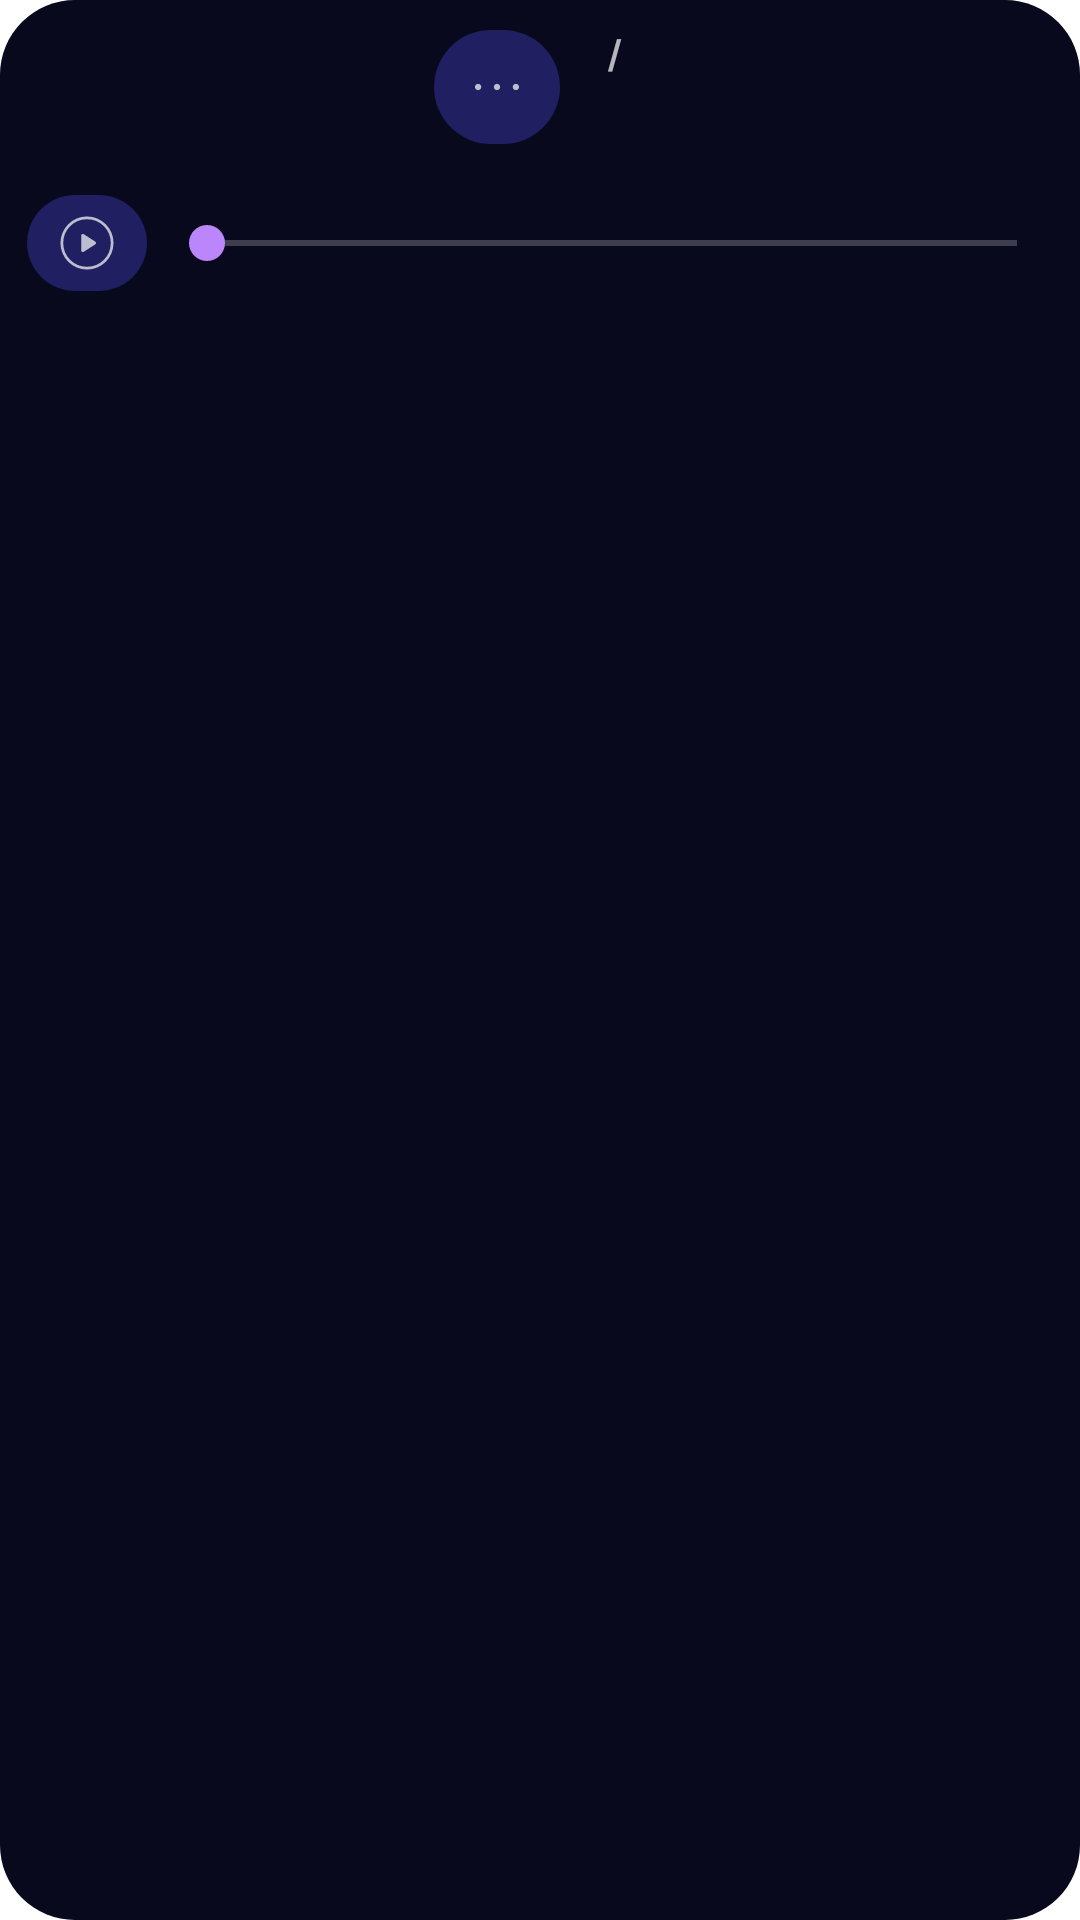

Point at icon controls on the screen. Image size 1080px x 1920px, points as [x,y].
more: [497,87]
Play: [87,243]
